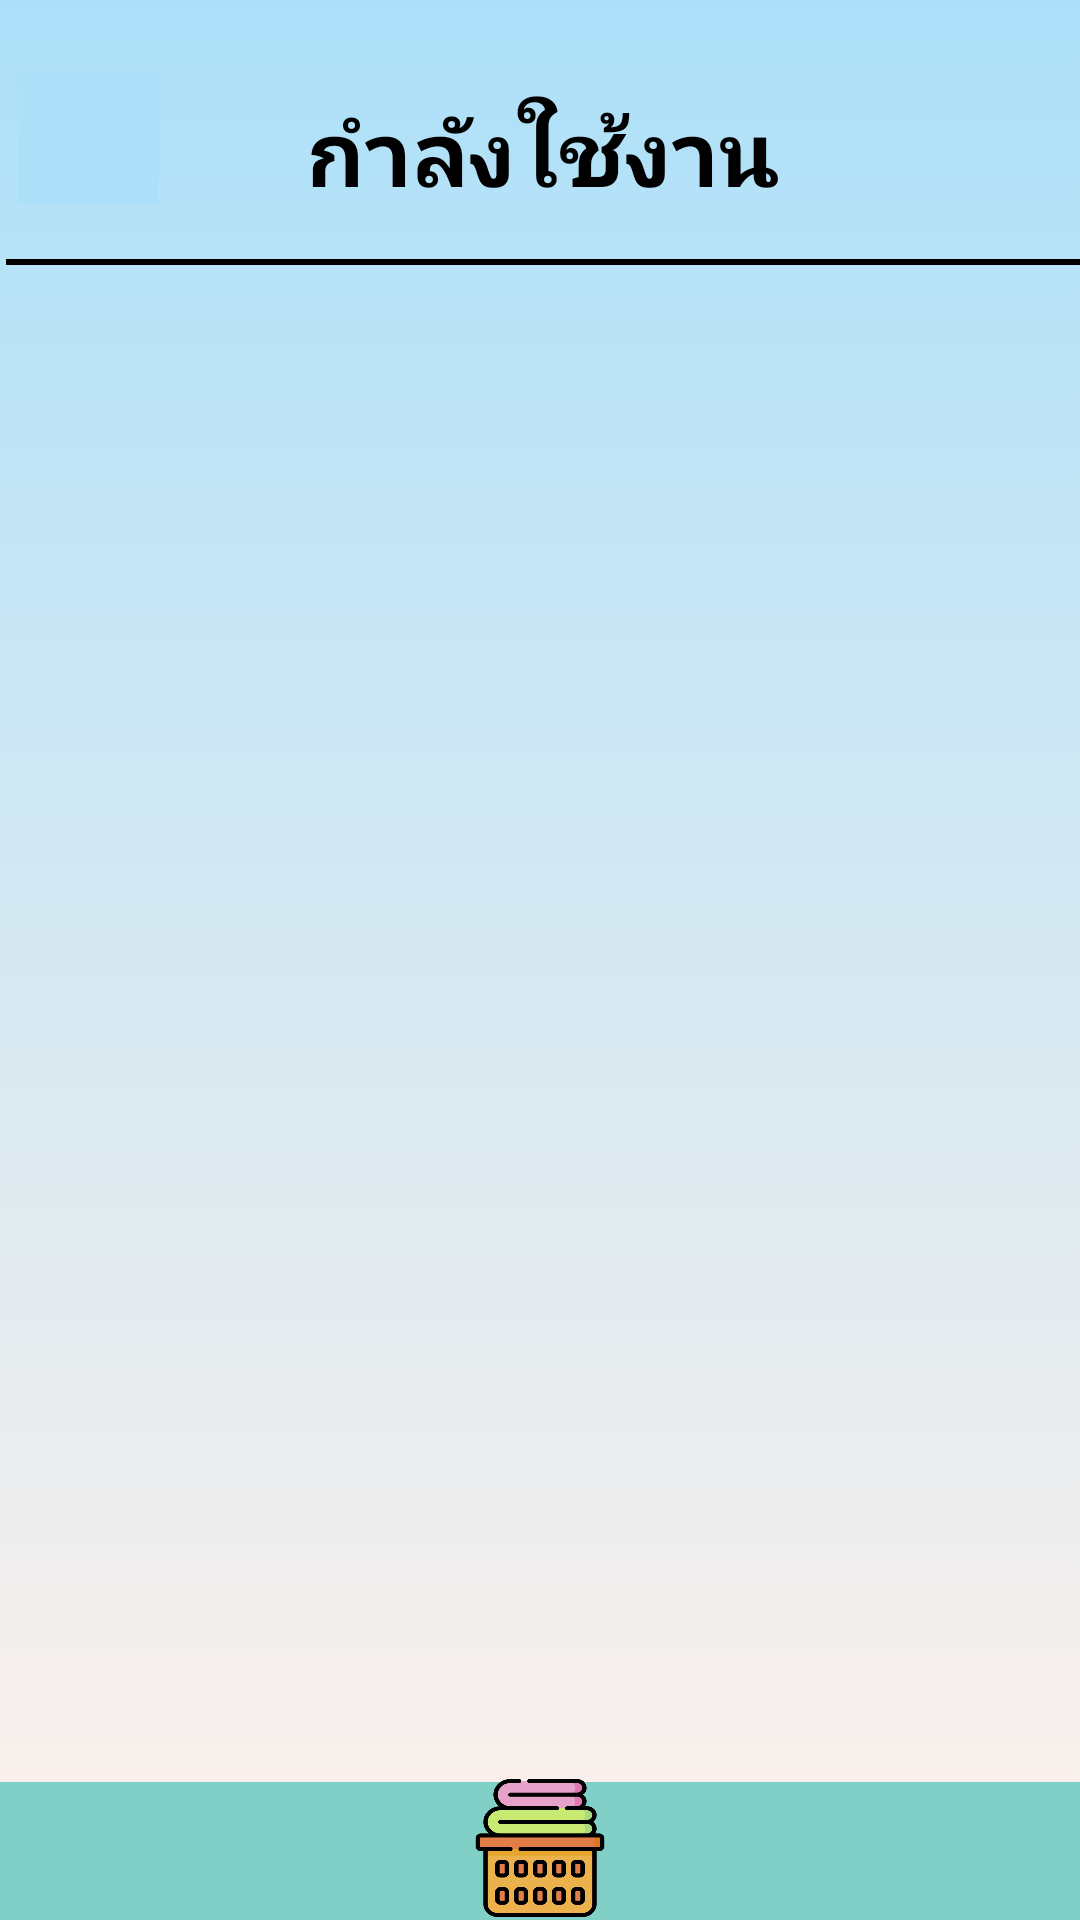

Icons on this 1080*1920 Android screen, each with its box as rect(x1, y1, x2, y2):
laundry: rect(465, 1779, 615, 1917)
